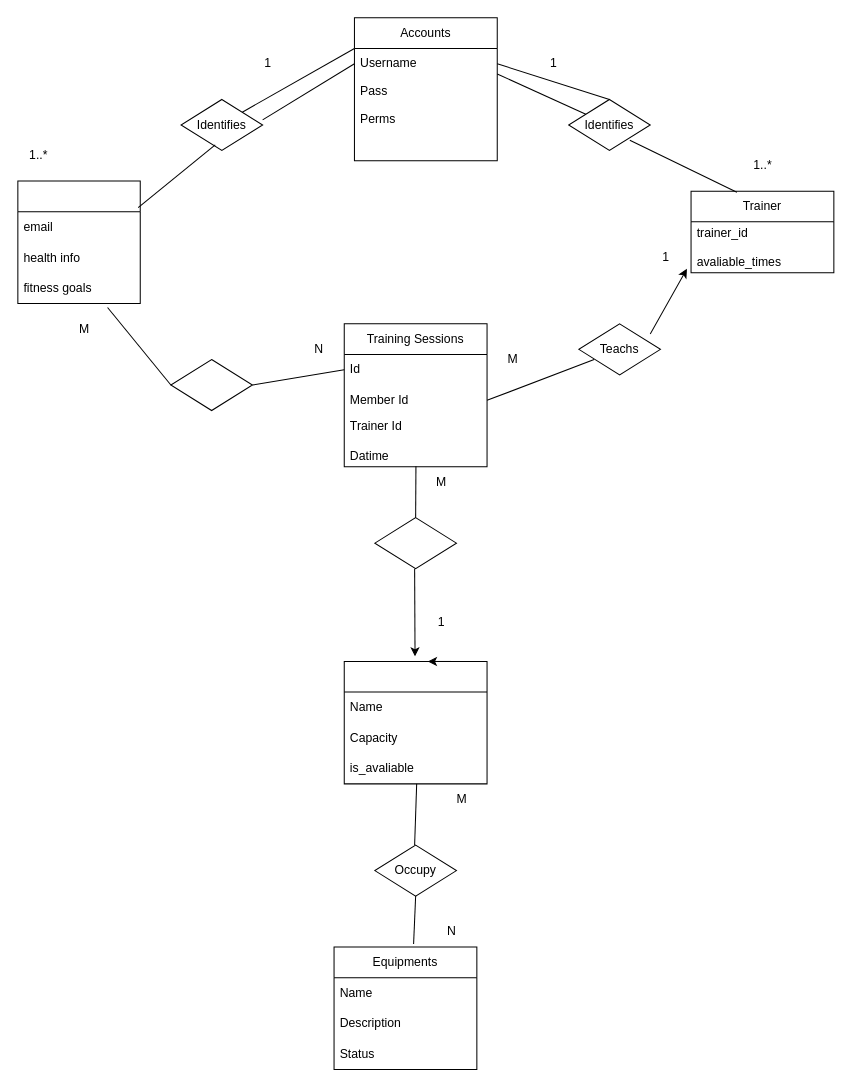
The diagram is 852 pixels wide and 1087 high, and some of its shapes have lost their labels. Each missing label, with the box of its shape:
Enroll: (170, 359, 252, 411)
Members: (17, 180, 140, 303)
Rooms: (343, 660, 487, 784)
Utilizes: (374, 517, 456, 569)
